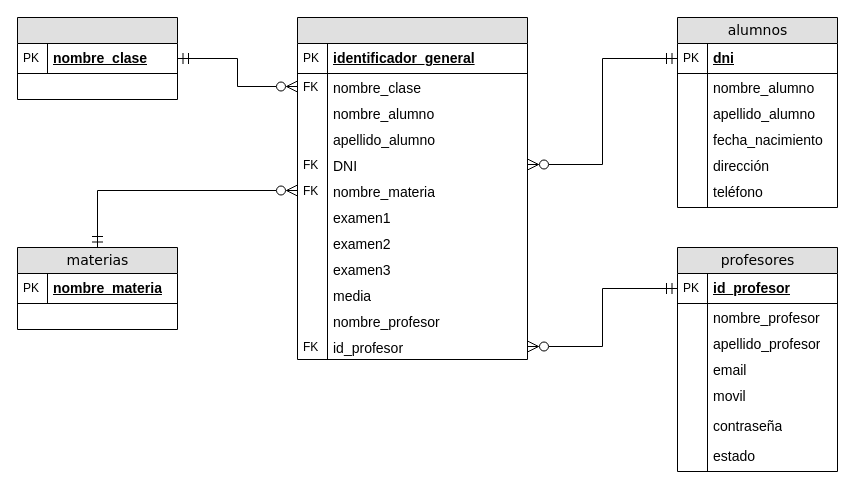
Some shapes in this 855 by 492 pixel diagram are drawn without their labels. The shapes that lost their labels are listed below. From the top down, each one's box as (x1, y1, x2, y2) in pixels, then its label:
(16, 16, 178, 100): clases
(296, 16, 528, 360): informacion_general
